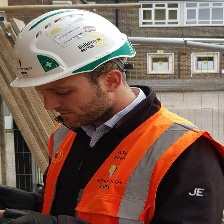helmet: (8, 7, 148, 90)
person: (8, 10, 219, 223)
vest: (44, 110, 224, 224)
